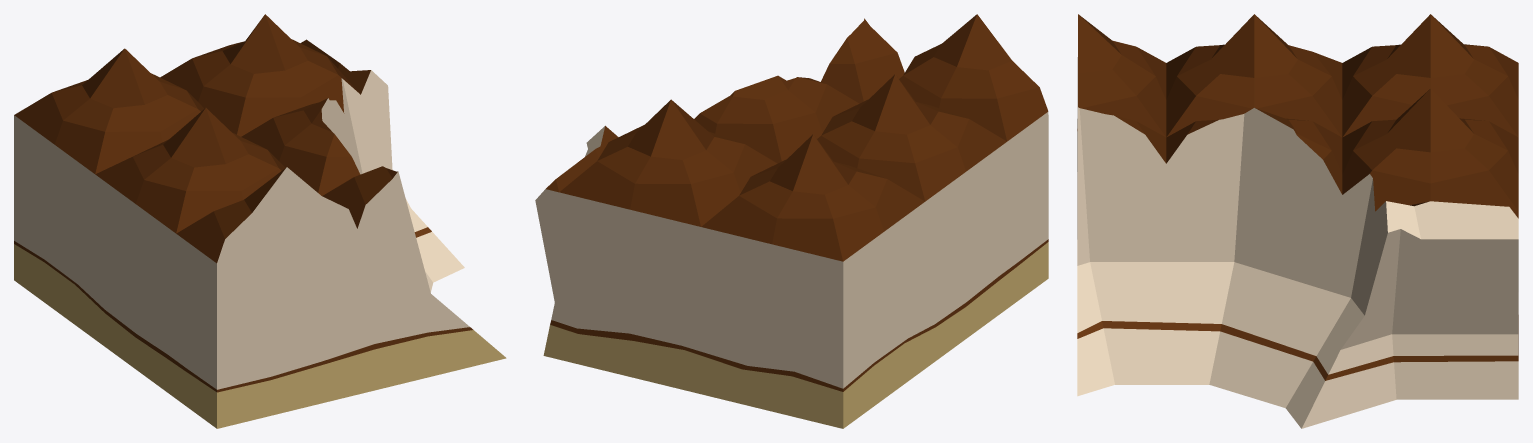
Rendered from TiramisuState3.fbx.
The picture shows the model from 3 angles, left to right: view 1: azimuth 30°, elevation 25°; view 2: azimuth 150°, elevation 25°; view 3: azimuth 270°, elevation 25°; orthographic projection. The views are drawn at different scales.
Parts seen in each view (by area): view 1: TiramisuState3; view 2: TiramisuState3; view 3: TiramisuState3.
Boxes of the visible parts, <box> form: TiramisuState3: <box>14,14,506,428</box>; TiramisuState3: <box>535,14,1048,428</box>; TiramisuState3: <box>1077,14,1518,428</box>.
Bounding box in the file's own units: 66.68 × 44.4 × 66.8.
